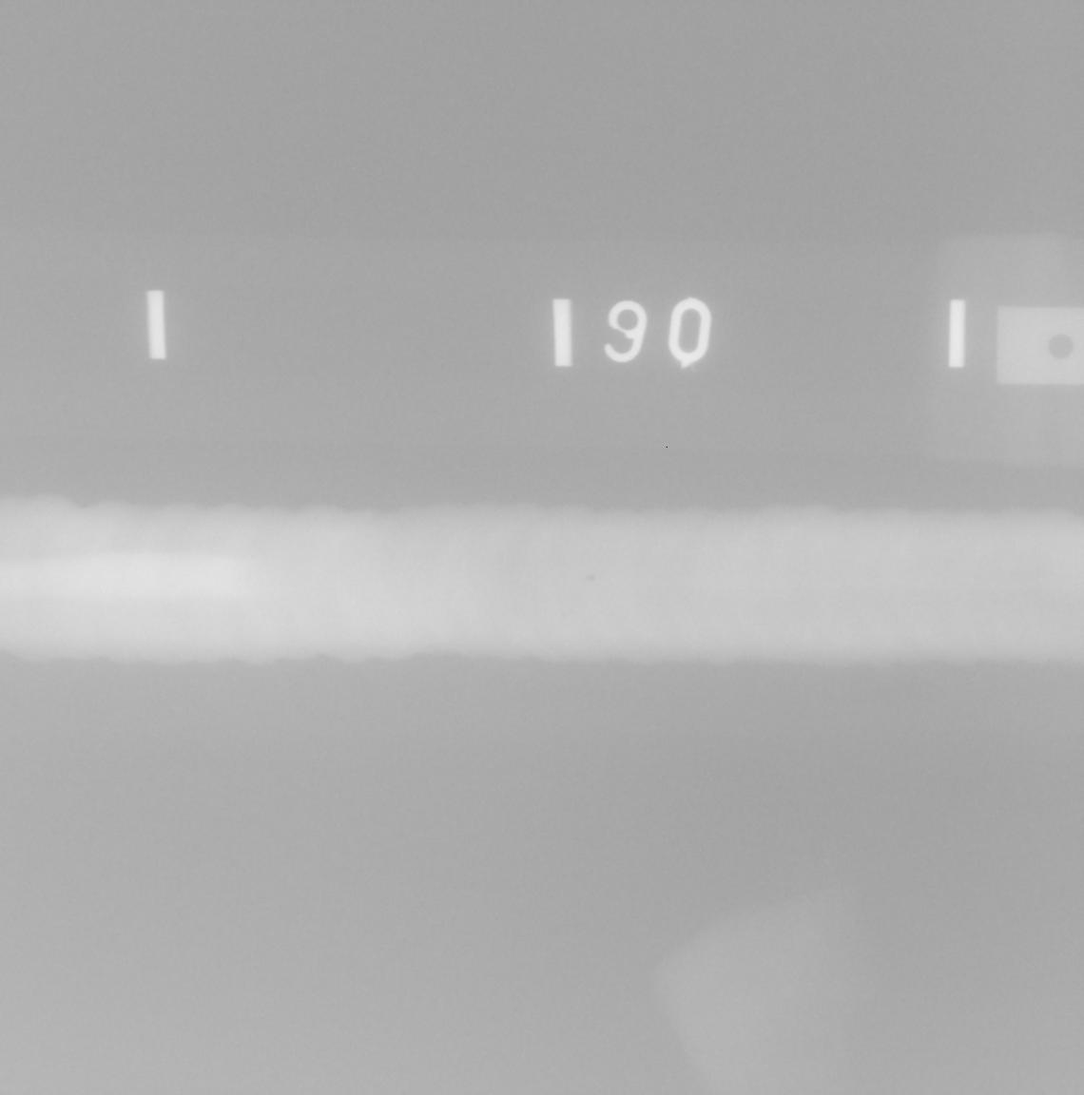Inclusion: (447, 591, 453, 601)
Pore/Porosity: (587, 574, 596, 581), (568, 609, 575, 613), (562, 613, 566, 617)
